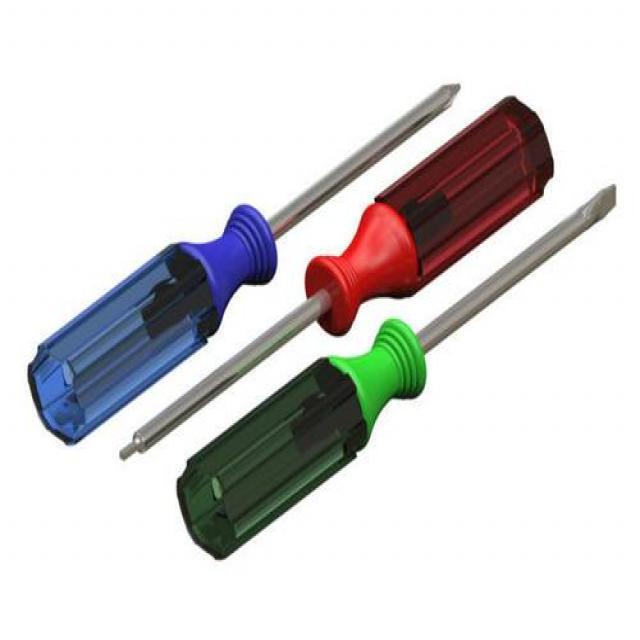screwdriver: (185, 173, 628, 561), (18, 67, 464, 445), (107, 100, 561, 470)
